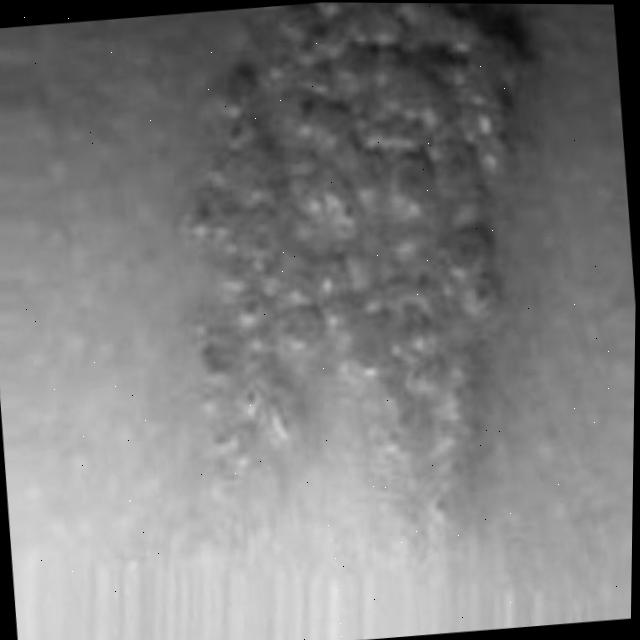Shingles: (113, 1, 575, 593)
